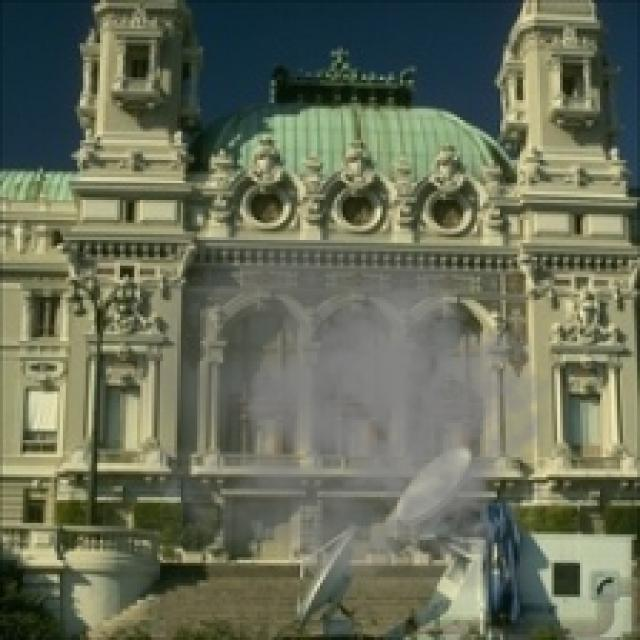Smoke: (137, 228, 557, 594)
